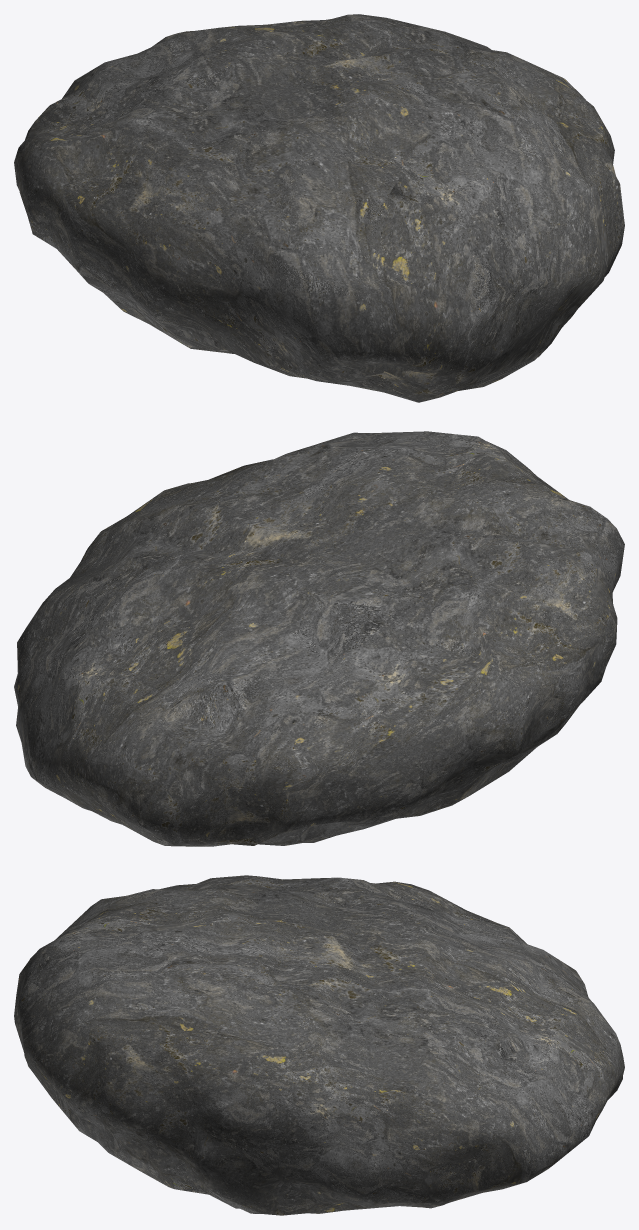
The model's file is Rock2.fbx.
3 views of the same model, one above another, from view 1: azimuth 30°, elevation 25°; view 2: azimuth 150°, elevation 25°; view 3: azimuth 270°, elevation 25° (orthographic). The views are drawn at different scales.
Visible parts, largest first — view 1: Rock 2.001; view 2: Rock 2.001; view 3: Rock 2.001.
Part boxes in pixels (<box>): Rock 2.001: <box>14,14,624,402</box>; Rock 2.001: <box>14,431,624,846</box>; Rock 2.001: <box>14,875,624,1215</box>.
Bounding box in the file's own units: 792 × 449 × 969.
